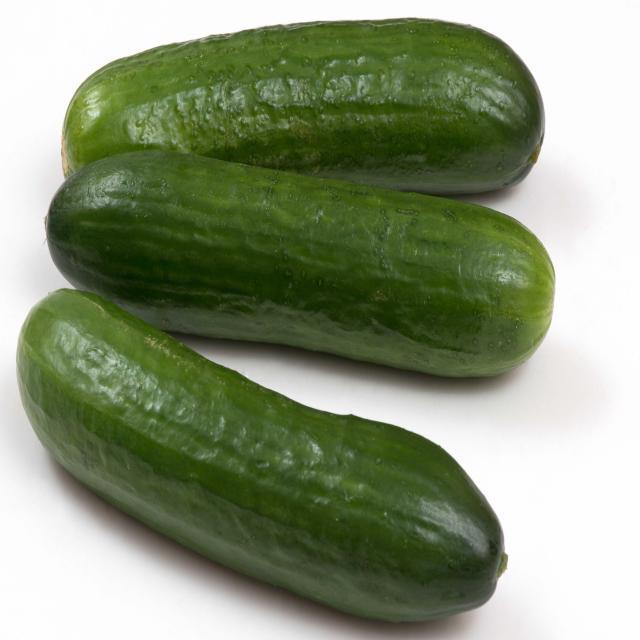Cucumber: (20, 294, 502, 622), (50, 149, 557, 378), (64, 19, 546, 194)
